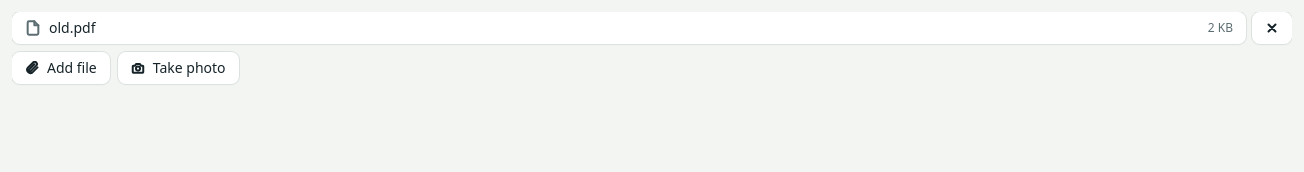
Test: Attachments › needs a second tap to remove, then drops the row
Click the button named "Remove old.pdf". click: (1272, 28)
box: [1252,12,1292,44]
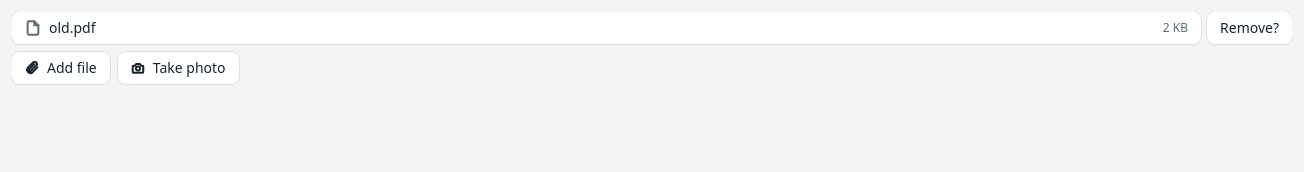
Click the button "Remove?". click: (1250, 28)
box: [1207,12,1292,44]
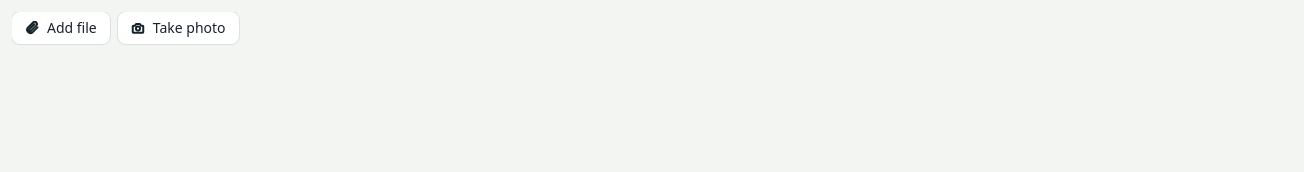
Expected: the button "old.pdf" is gone
